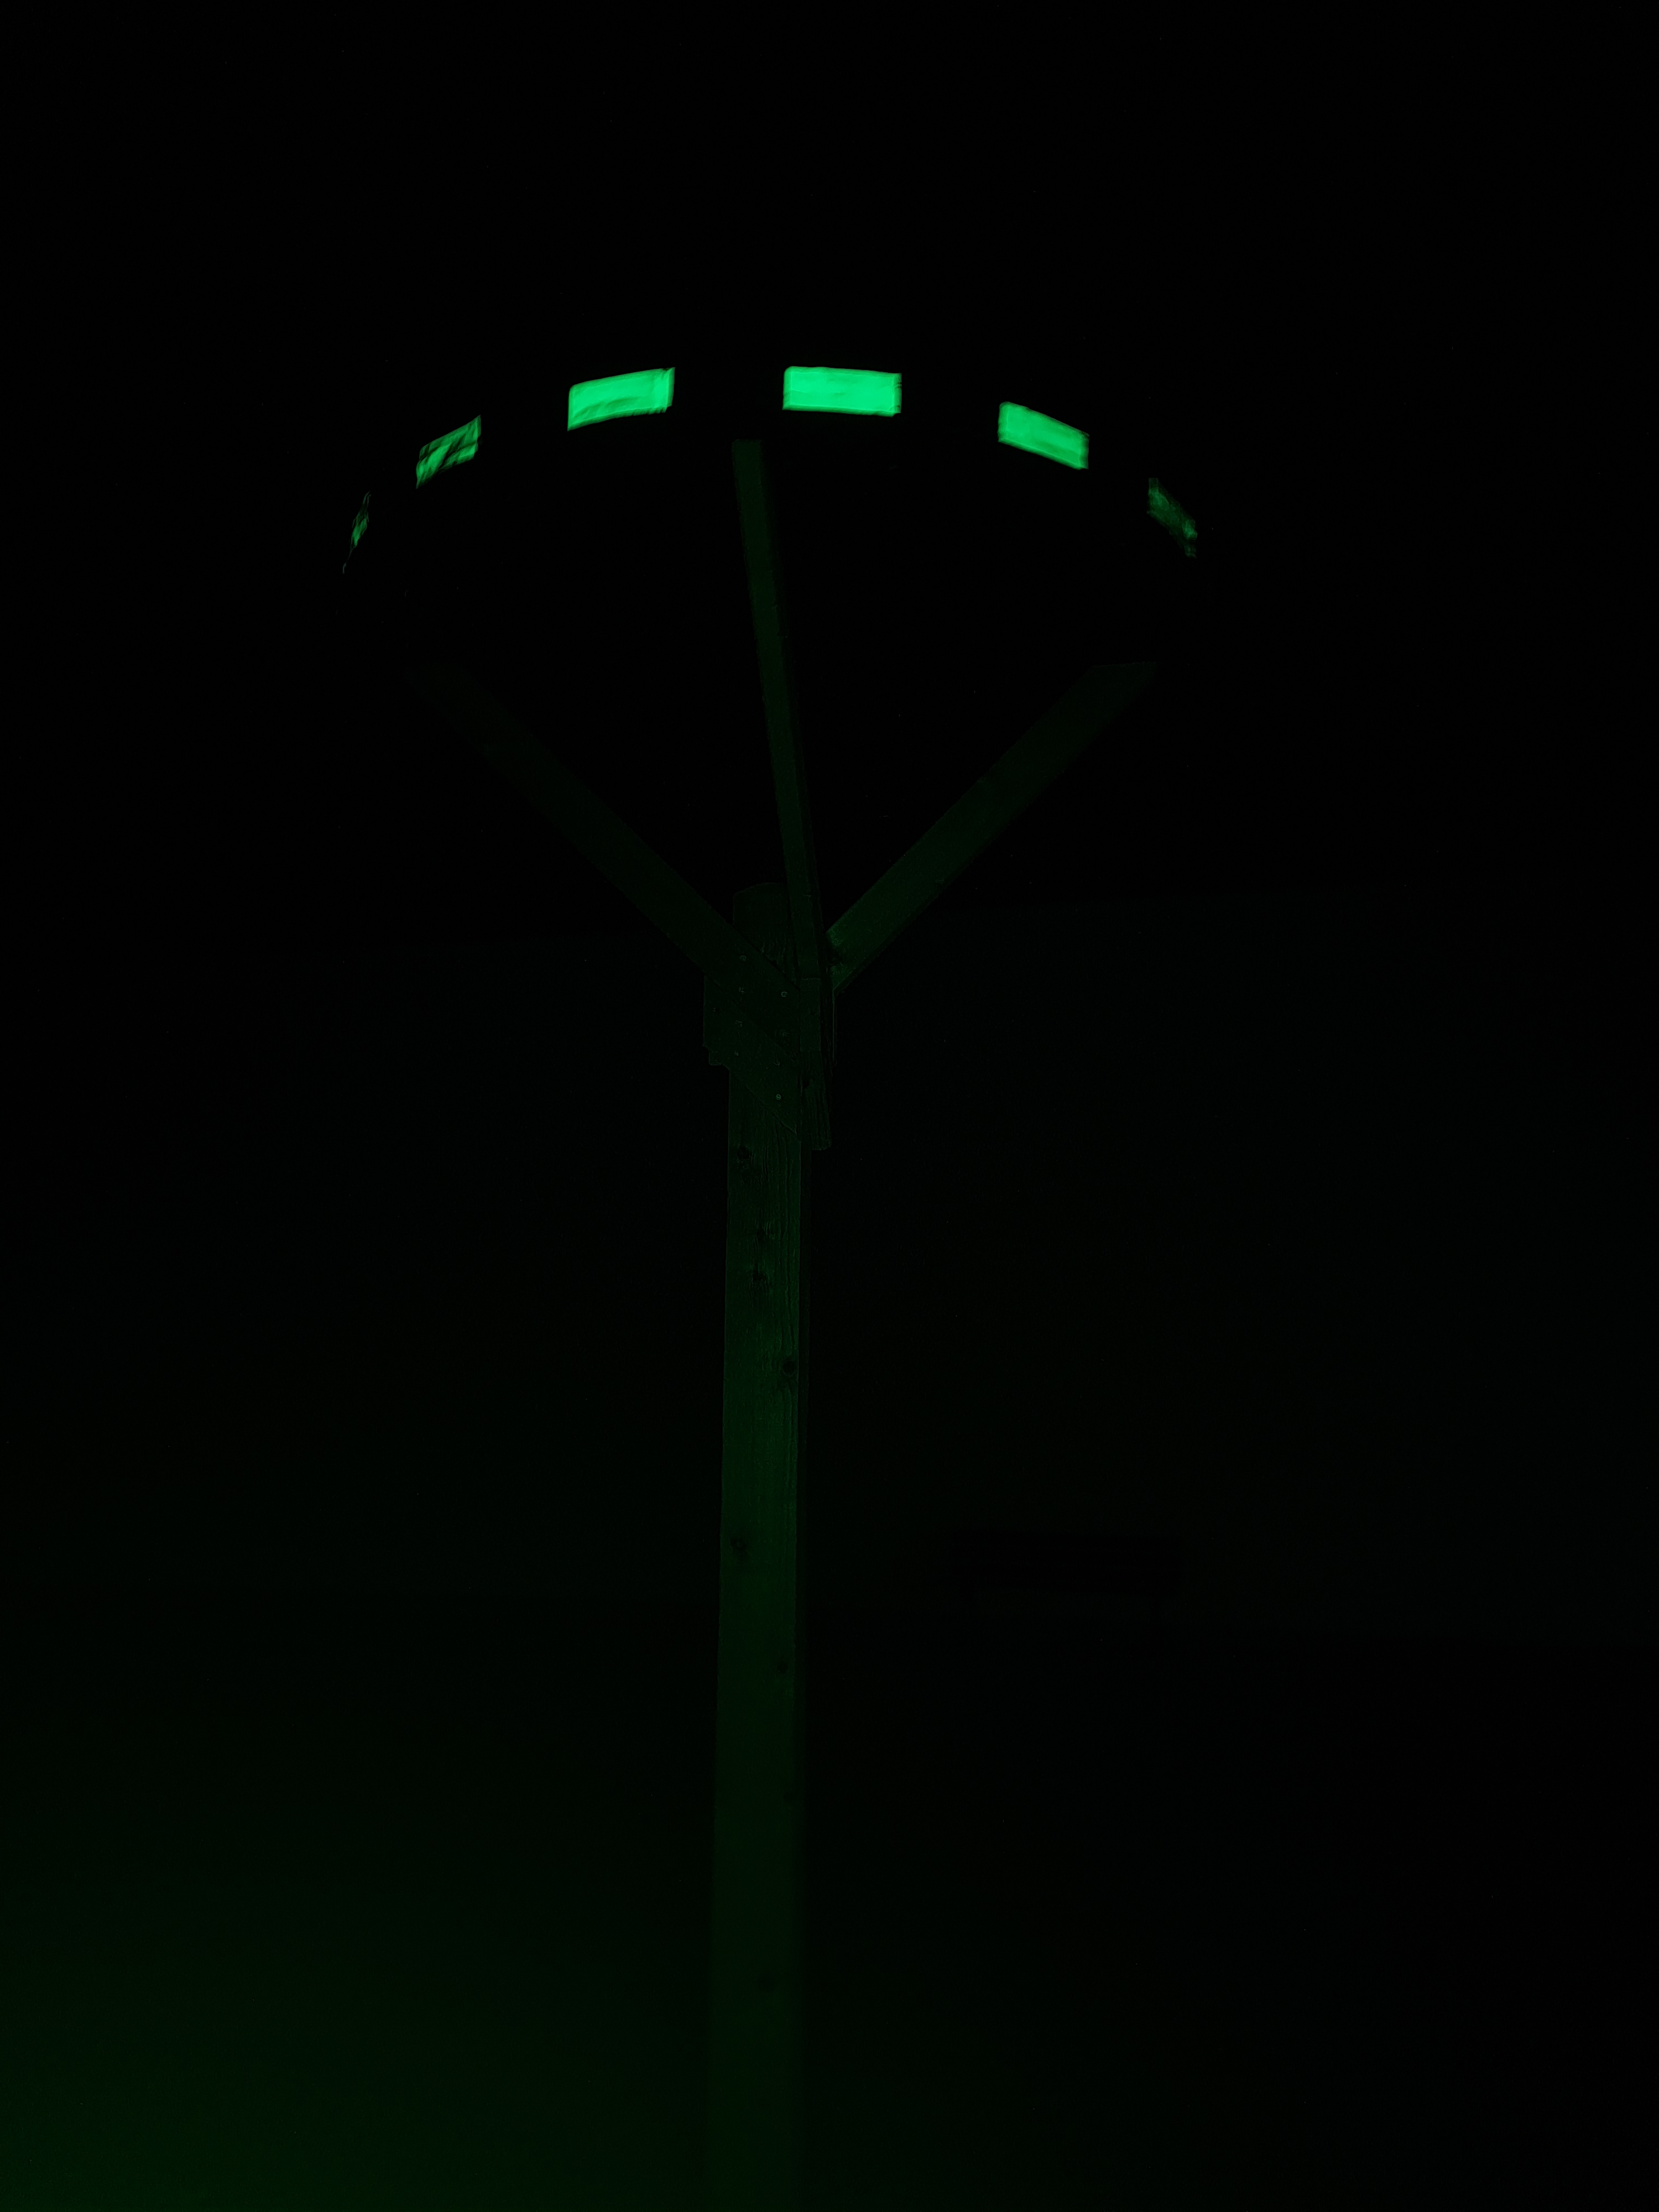hoop: (343, 359, 1204, 564)
